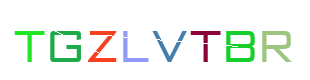B: (165, 0, 245, 80)
G: (62, 0, 142, 80)
L: (114, 0, 194, 80)
R: (197, 0, 277, 80)
T: (37, 0, 117, 80), (132, 0, 212, 80)
V: (129, 0, 209, 80)
Z: (98, 0, 178, 80)
